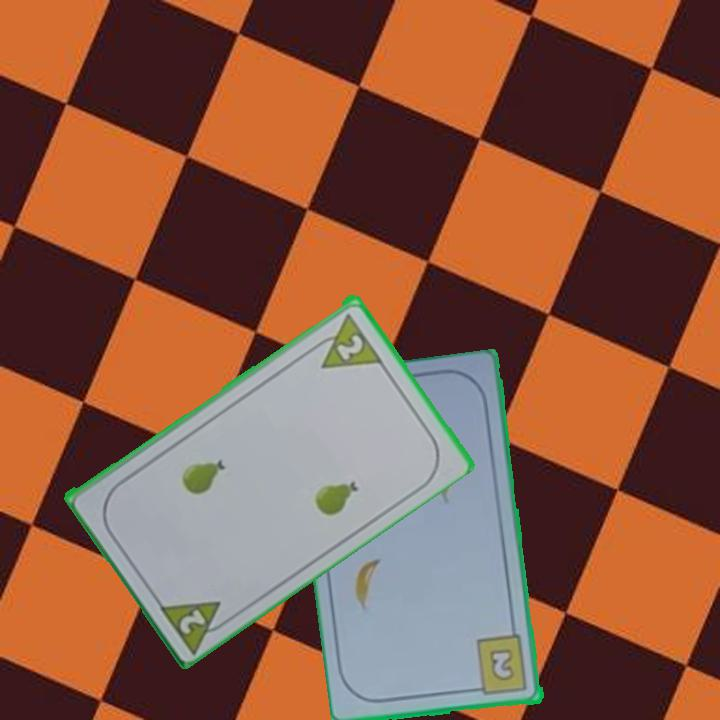2b: (469, 632, 531, 699)
2p: (154, 596, 236, 655), (332, 330, 367, 363)
